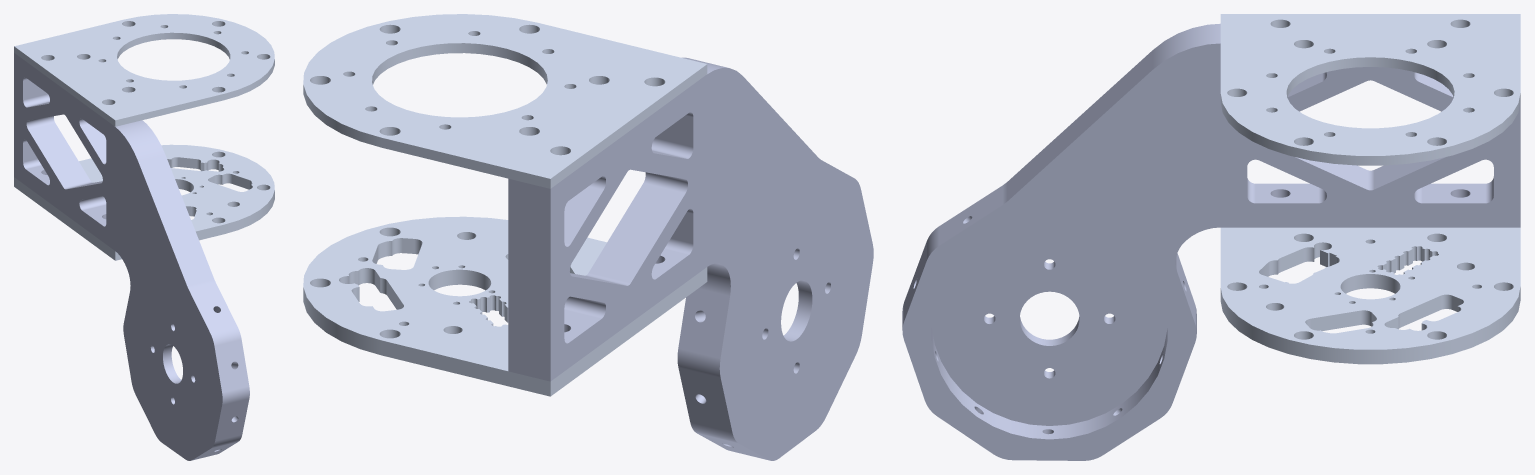
3 views of the same model, side by side, from view 1: azimuth 30°, elevation 25°; view 2: azimuth 150°, elevation 25°; view 3: azimuth 270°, elevation 25° (orthographic). The views are drawn at different scales.
Parts seen in each view (by area): view 1: A_Joint_4_Hub (×3); view 2: A_Joint_4_Hub (×3); view 3: A_Joint_4_Hub (×3).
Part boxes in pixels (left/top/right/bottom): A_Joint_4_Hub (×3): left=14, top=14, right=274, bottom=460; A_Joint_4_Hub (×3): left=303, top=14, right=873, bottom=460; A_Joint_4_Hub (×3): left=902, top=14, right=1520, bottom=460.
Size of the model in its own units: 101 by 185 by 141.
